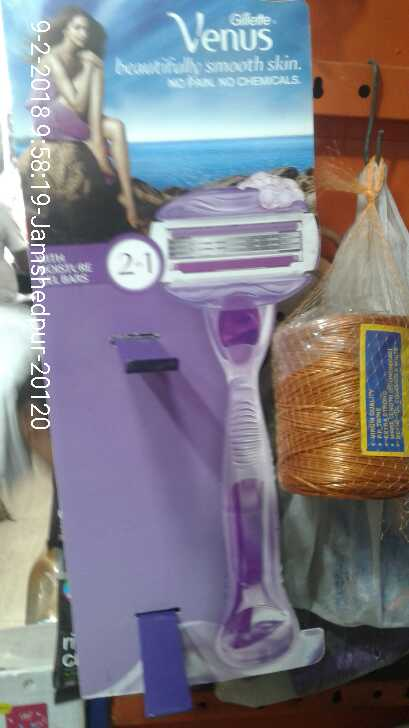reject: (85, 176, 282, 296)
